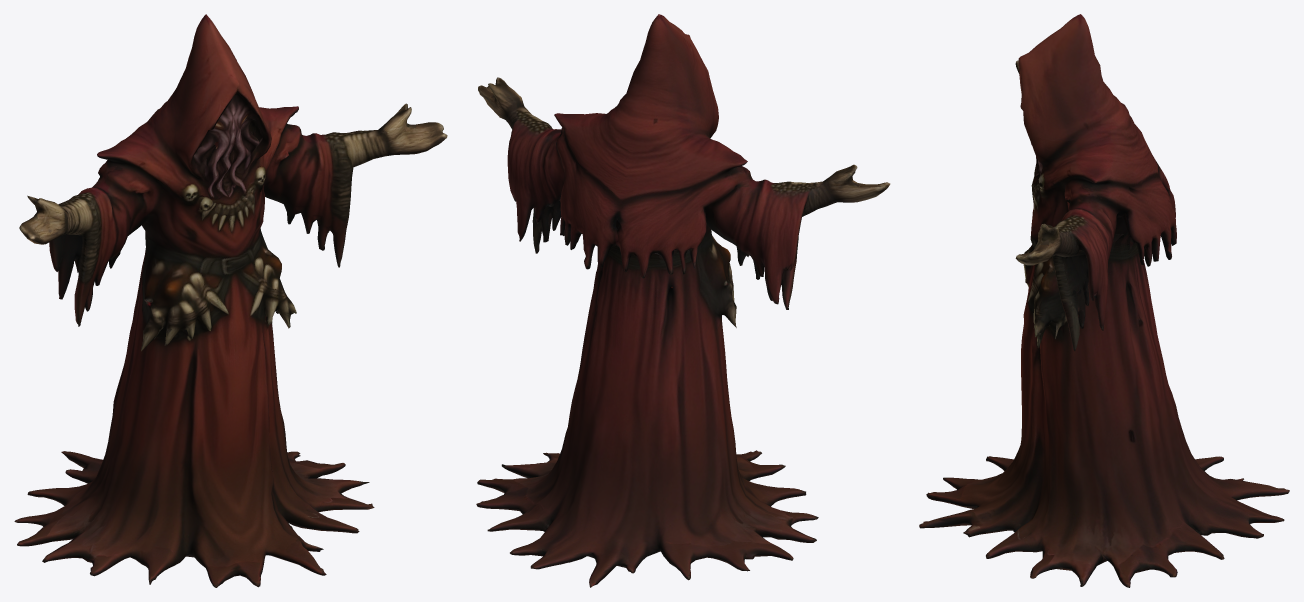
The model's file is abyssal_warlock.glb.
3 views of the same model, side by side, from view 1: azimuth 30°, elevation 25°; view 2: azimuth 150°, elevation 25°; view 3: azimuth 270°, elevation 25° (orthographic). The views are drawn at different scales.
Visible parts, largest first — view 1: Object_4; view 2: Object_4; view 3: Object_4.
Boxes of the visible parts, x1,y1,x2,y2 form: Object_4: [14, 14, 447, 587]; Object_4: [476, 14, 890, 587]; Object_4: [919, 14, 1289, 587].
Size of the model in its own units: 1.65 by 1.91 by 1.29.
Materials: 1 (1 with a texture image).
